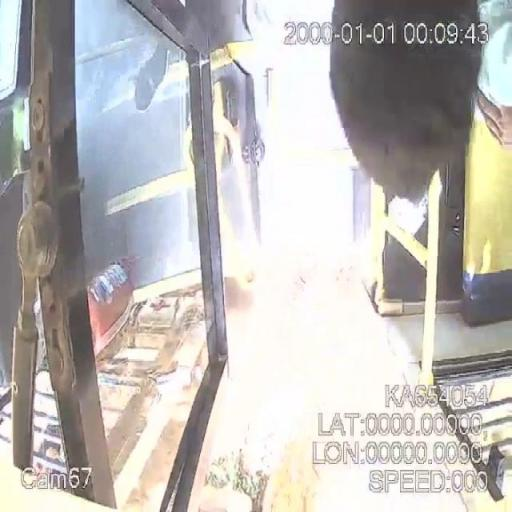persona: (328, 1, 480, 209)
